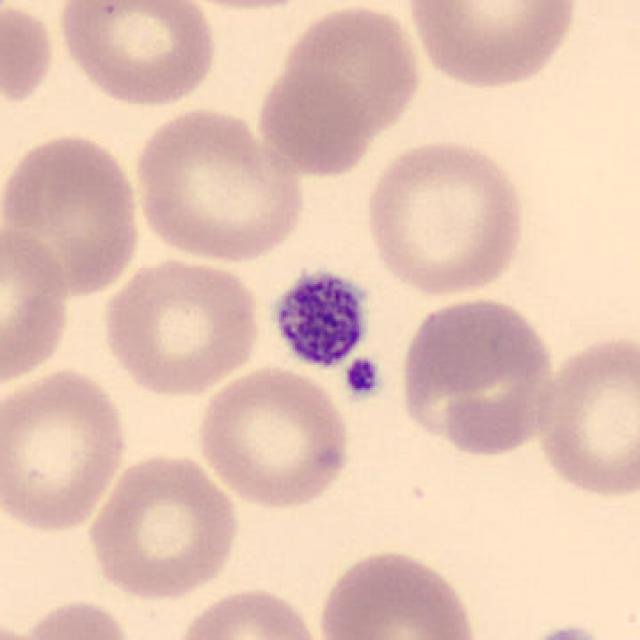Platelets: (266, 263, 372, 372), (341, 354, 384, 402)
RBC: (436, 420, 634, 633), (128, 104, 309, 266), (361, 134, 531, 301), (394, 293, 562, 460), (0, 127, 148, 300), (192, 363, 356, 513), (98, 252, 265, 399), (84, 448, 244, 601), (261, 0, 425, 148), (0, 363, 133, 536), (530, 328, 640, 501), (53, 0, 220, 109), (402, 0, 585, 93), (313, 545, 483, 640), (249, 62, 384, 178), (0, 220, 73, 394), (167, 583, 325, 640), (0, 0, 57, 116), (9, 594, 140, 640), (162, 0, 330, 14), (0, 612, 52, 640)
